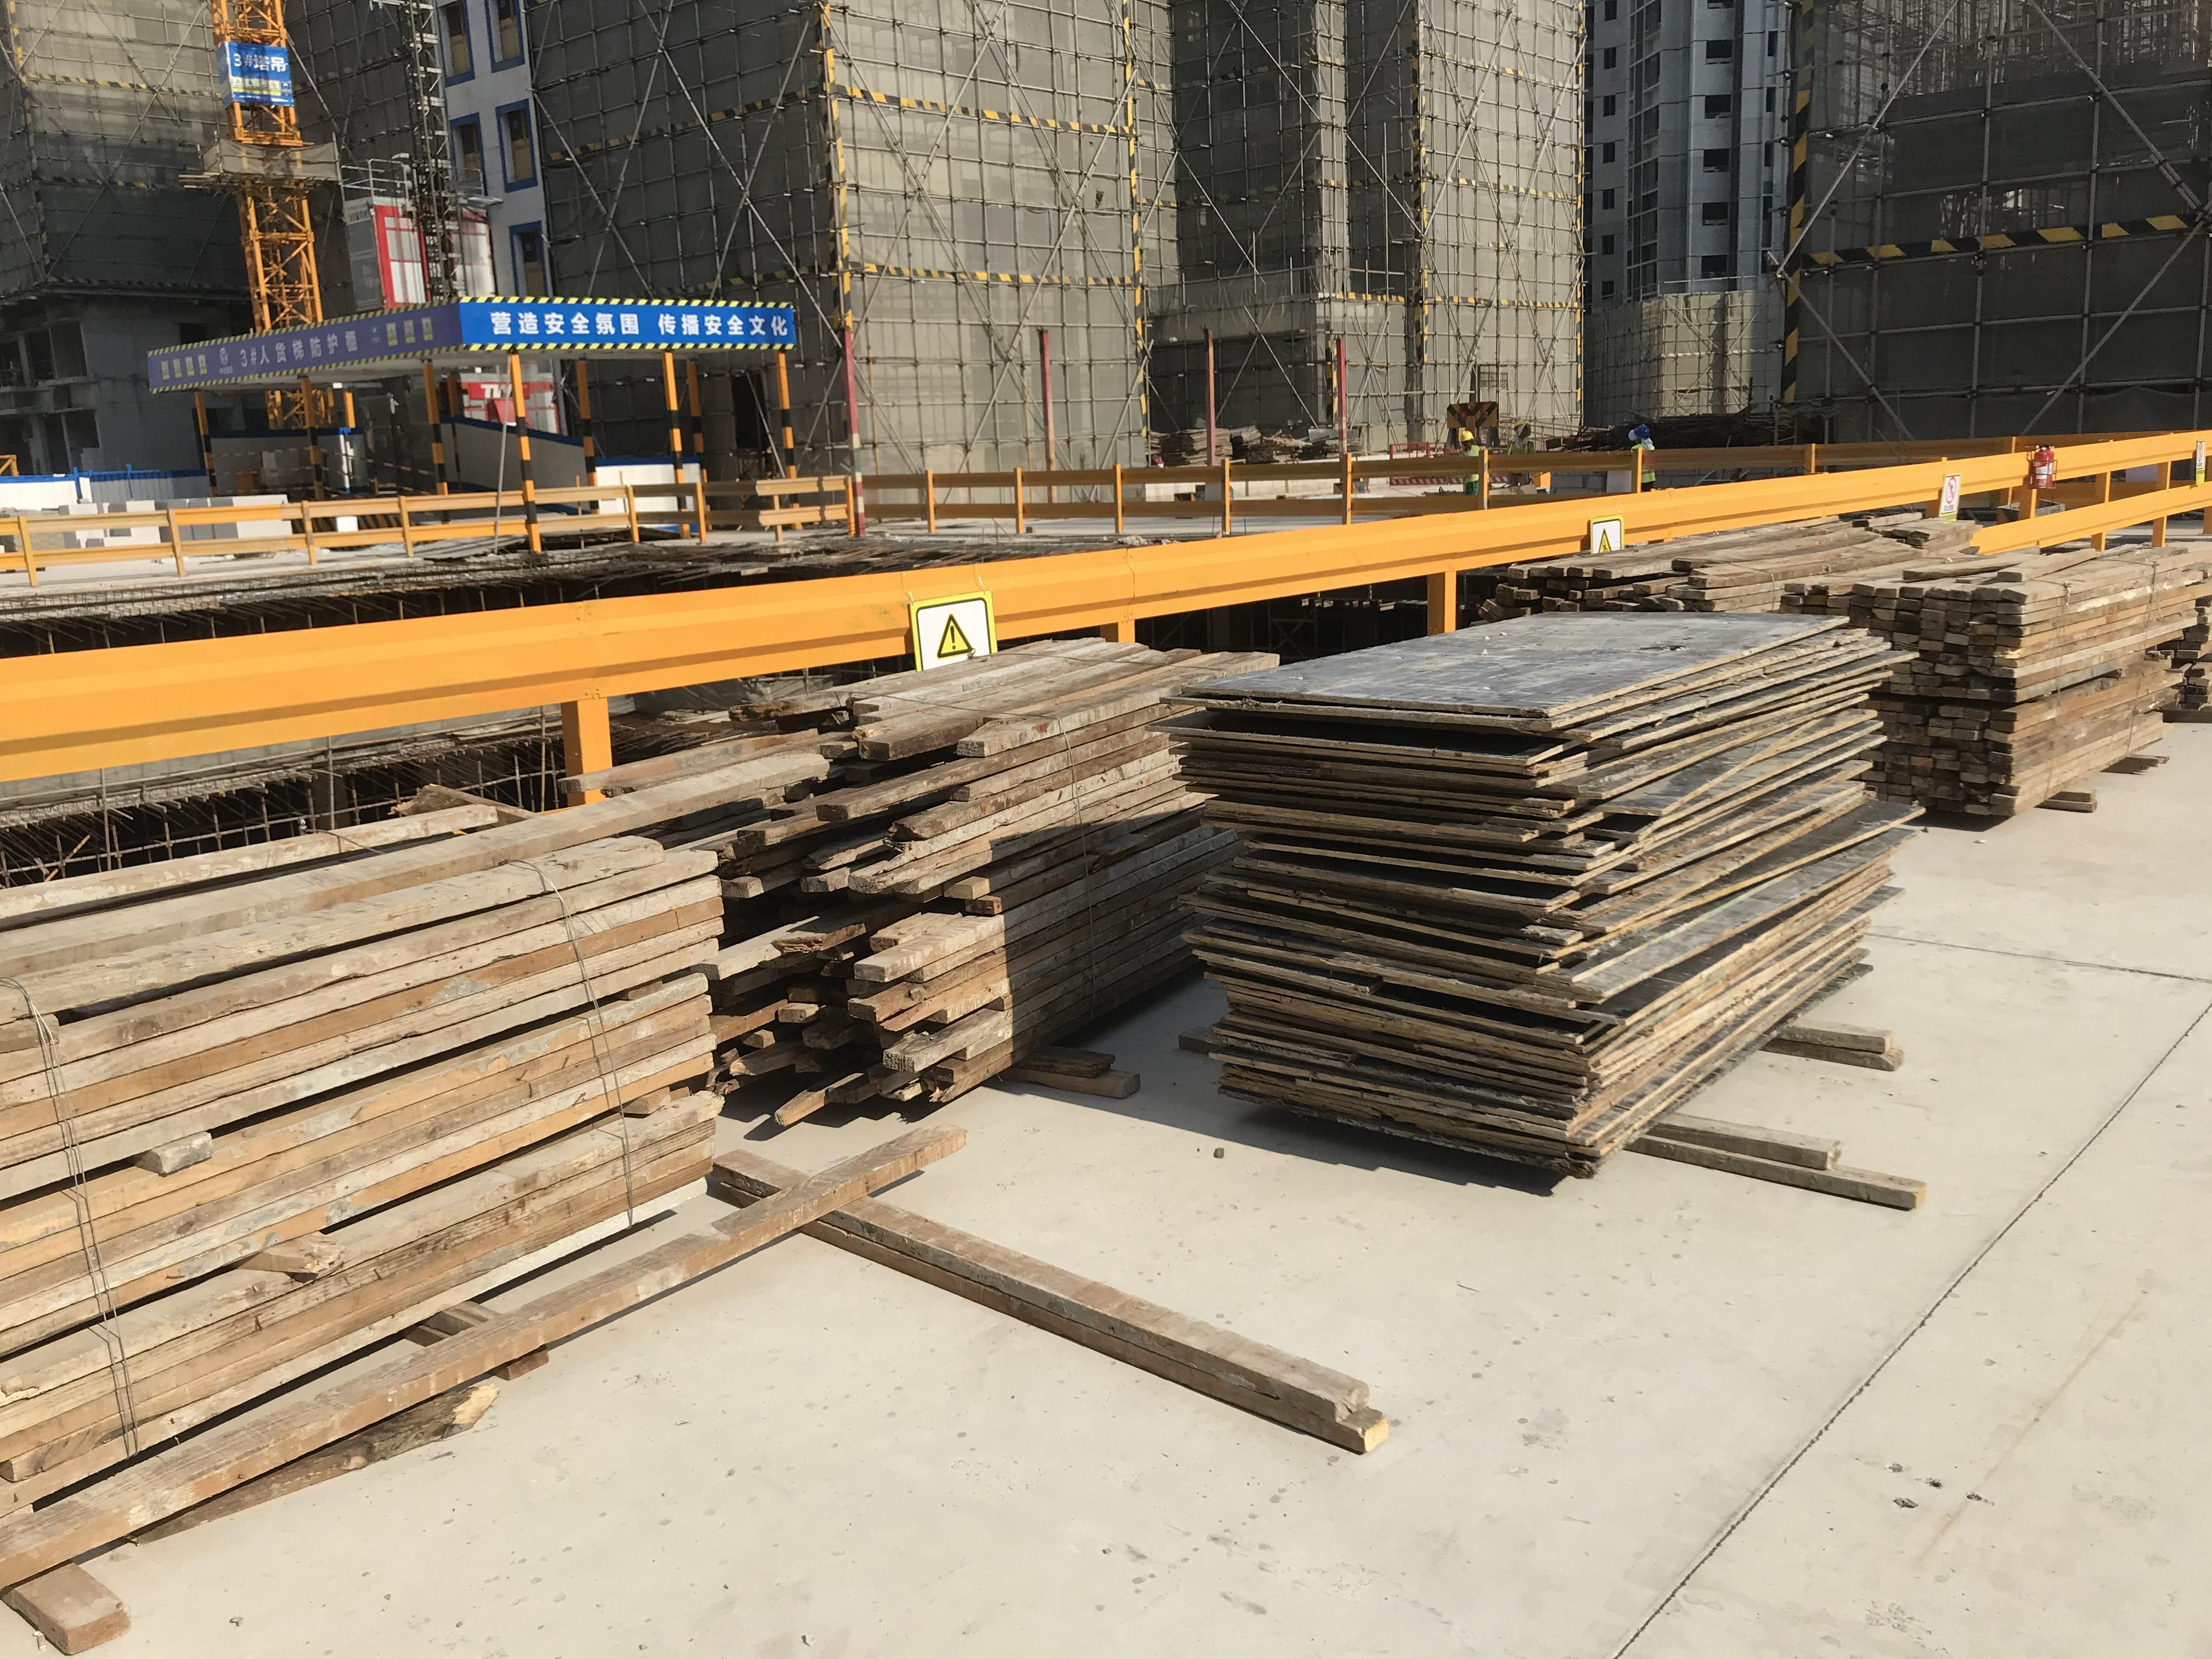board: (1178, 610, 1912, 1184)
helmet: (1635, 424, 1650, 438), (1460, 431, 1474, 442), (1514, 421, 1526, 427)
person: (1508, 421, 1533, 483), (1632, 427, 1656, 490), (1458, 430, 1479, 494)
slogan: (462, 305, 793, 343)
vest: (1632, 444, 1656, 483), (1460, 445, 1478, 483), (1510, 441, 1530, 453)
wood: (1, 783, 723, 1570), (587, 633, 1183, 1107), (1886, 555, 2212, 810), (1504, 516, 1925, 610)
